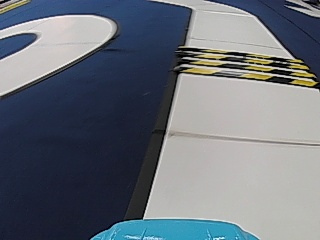bump: (187, 49, 296, 79)
